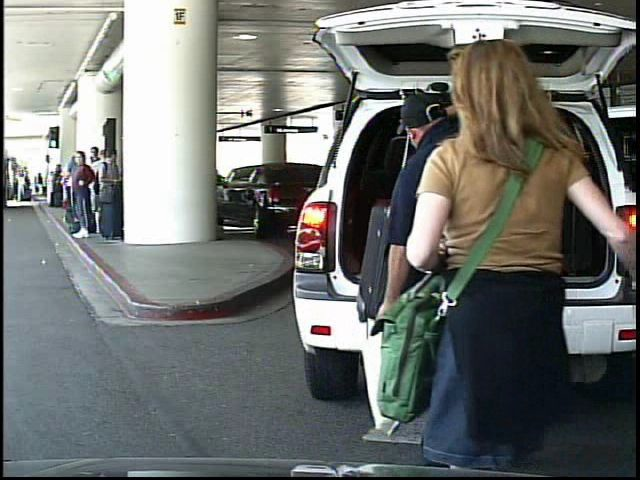person: (403, 53, 604, 470), (365, 84, 551, 461), (17, 174, 28, 205), (35, 172, 46, 199)
